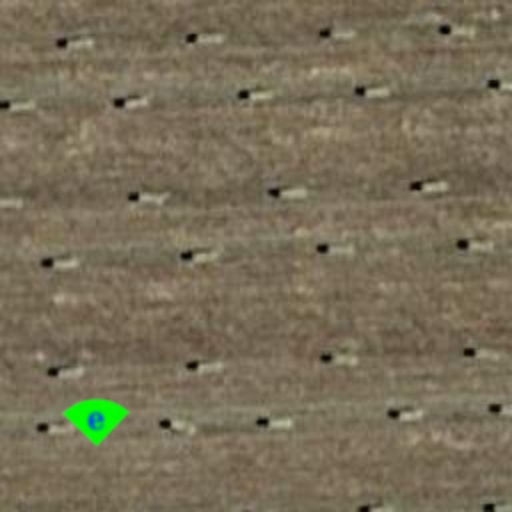quarter_circle: (62, 384, 130, 452)
